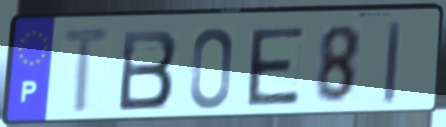0: (188, 24, 237, 112)
8: (313, 22, 363, 107)
B: (116, 27, 181, 114)
E: (246, 24, 307, 108)
I: (380, 18, 404, 108)
T: (59, 25, 116, 119)
